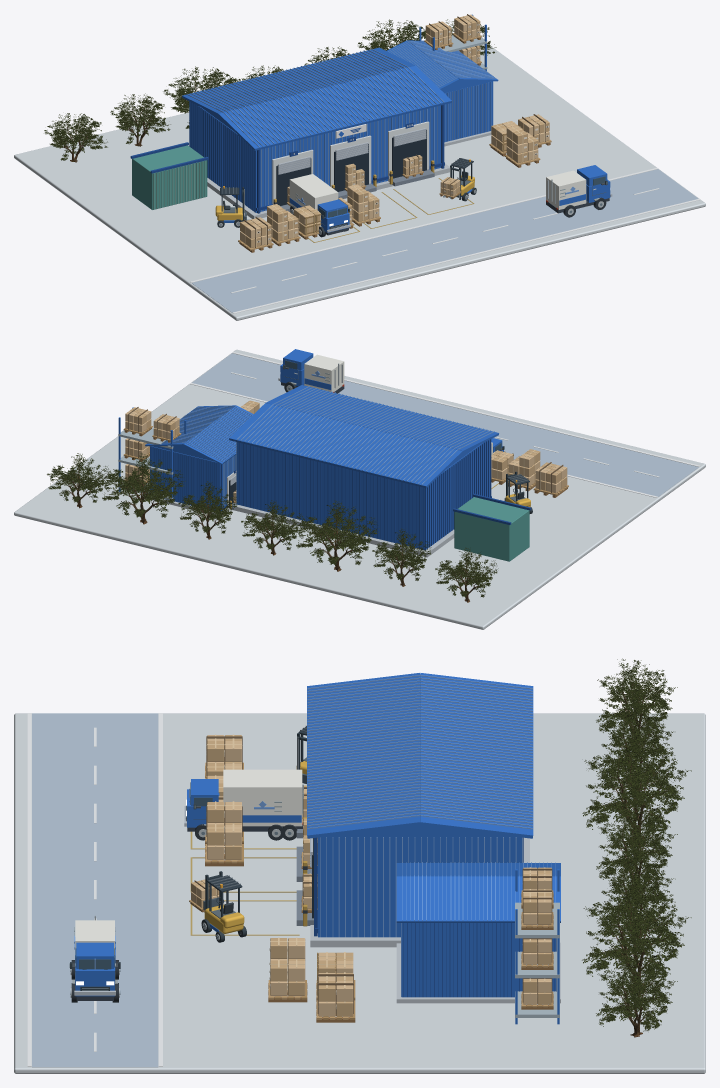
File: depot-riverside-blue.glb
3 views of the same model, one above another, from view 1: azimuth 30°, elevation 25°; view 2: azimuth 150°, elevation 25°; view 3: azimuth 270°, elevation 25° (orthographic). The views are drawn at different scales.
Visible parts, largest first — view 1: depot-riverside, static-15--160, static-15--342, static-15--159, jacaranda_tree_leaves (×4), rigid-color-batch-0 (×2), static-15--254, static-15--273, static-15--118, static-15--56, static-15--117, static-8--59 (+9 smaller); view 2: depot-riverside, static-15--342, static-15--160, jacaranda_tree_leaves (×7), static-15--254, static-15--159, static-15--273, static-15--118, static-15--117, rigid-color-batch-0, static-15--198, static-8--59 (+4 smaller); view 3: depot-riverside, static-15--160, jacaranda_tree_leaves (×7), static-15--159, static-15--342, static-15--273, rigid-color-batch-0 (×2), static-15--118, static-8--59, static-15--339, static-15--198, static-6--11 (×2) (+11 smaller).
Boxes of the visible parts, x1,y1,x2,y2 form: depot-riverside: (14, 44, 705, 320); static-15--160: (182, 47, 451, 150); static-15--342: (190, 102, 440, 212); static-15--159: (186, 48, 444, 147); jacaranda_tree_leaves (×4): (44, 19, 425, 160); rigid-color-batch-0 (×2): (289, 165, 610, 235); static-15--254: (189, 101, 444, 213); static-15--273: (441, 80, 492, 142); static-15--118: (386, 40, 498, 89); static-15--56: (276, 130, 426, 205); static-15--117: (388, 41, 496, 87); static-8--59: (190, 168, 700, 313); depot-riverside: (14, 349, 705, 629); static-15--342: (237, 440, 490, 550); static-15--160: (229, 385, 498, 488); jacaranda_tree_leaves (×7): (47, 453, 498, 597); static-15--254: (239, 439, 491, 550); static-15--159: (237, 386, 494, 484); static-15--273: (150, 445, 236, 509); static-15--118: (145, 405, 253, 464); static-15--117: (146, 406, 252, 462); rigid-color-batch-0: (280, 349, 344, 393); static-15--198: (150, 446, 236, 511); static-8--59: (190, 352, 699, 497); depot-riverside: (14, 713, 705, 1073); static-15--160: (307, 673, 533, 838); jacaranda_tree_leaves (×7): (582, 658, 691, 1031); static-15--159: (307, 675, 532, 829); static-15--342: (318, 825, 521, 937); static-15--273: (401, 923, 555, 997); rigid-color-batch-0 (×2): (75, 769, 302, 1000); static-15--118: (396, 863, 560, 922); static-8--59: (27, 713, 162, 1066); static-15--339: (320, 837, 522, 937); static-15--198: (403, 923, 556, 997); static-6--11 (×2): (207, 802, 305, 995).
Size of the model in its own units: 28 by 4.86 by 23.
56 materials, 3 textured.
